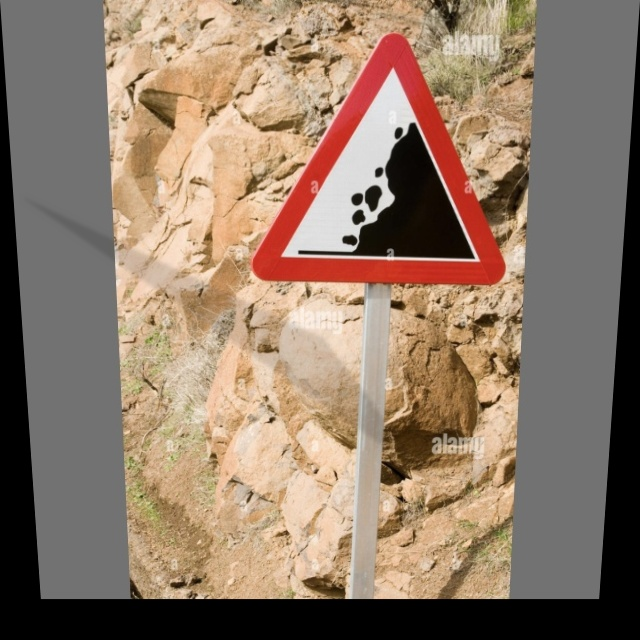Falling_Rocks: (257, 42, 514, 283)
